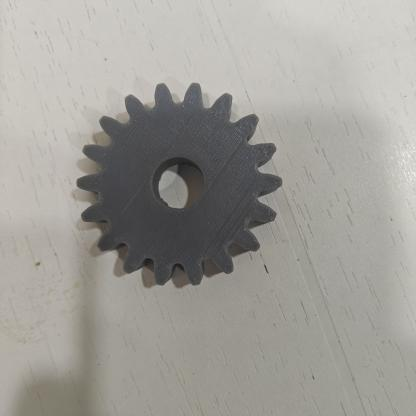gear: (66, 75, 300, 298)
